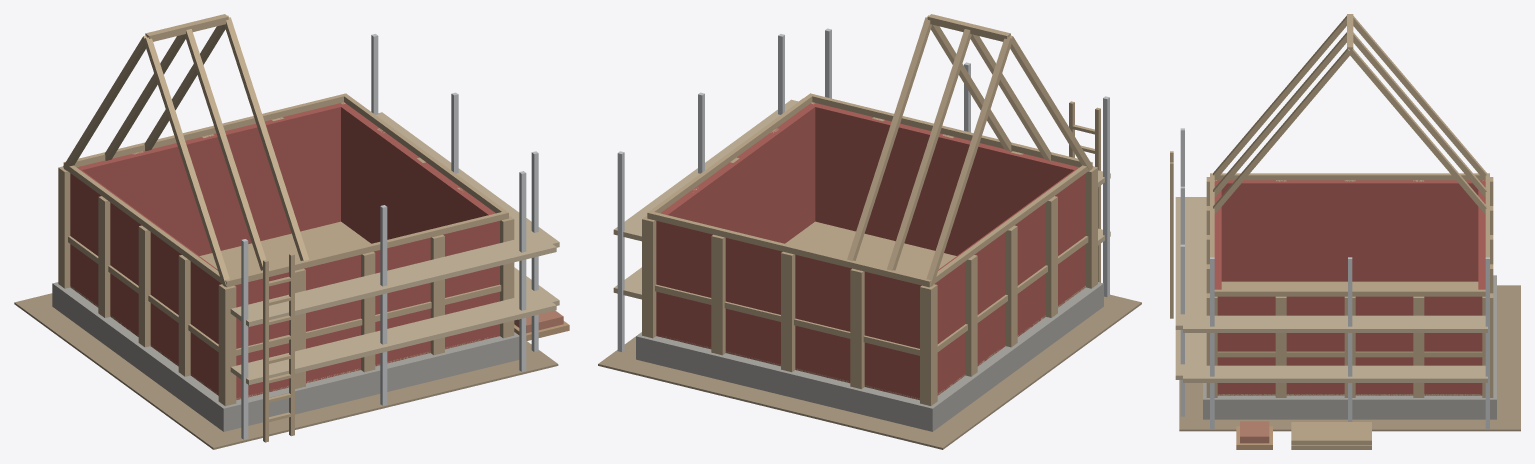
The model's file is cow_shed_site_8.glb.
3 renders of one model, left to right at view 1: azimuth 30°, elevation 25°; view 2: azimuth 150°, elevation 25°; view 3: azimuth 270°, elevation 25°, orthographic. The views are drawn at different scales.
Visible parts, largest first — view 1: body; view 2: body; view 3: body.
Boxes of the visible parts, x1,y1,x2,y2 form: body: [14, 14, 569, 449]; body: [598, 14, 1141, 449]; body: [1170, 14, 1520, 449].
Bounding box in the file's own units: 2.1 × 1.72 × 1.91.
